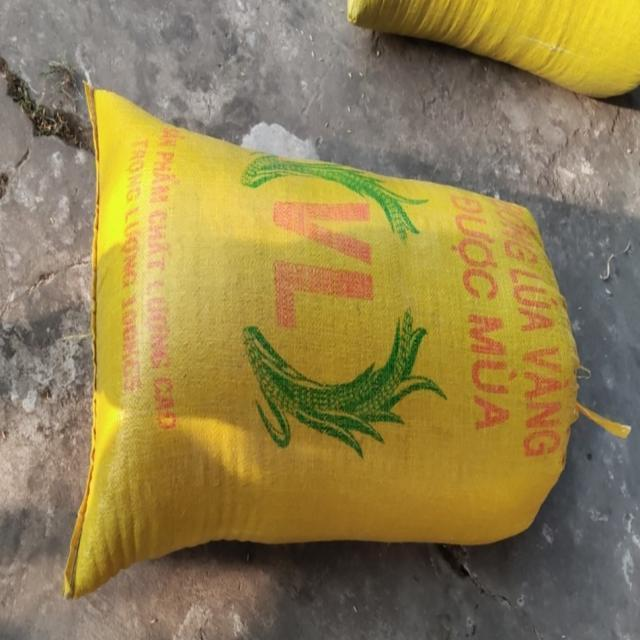gunny_bag: (63, 84, 591, 597)
